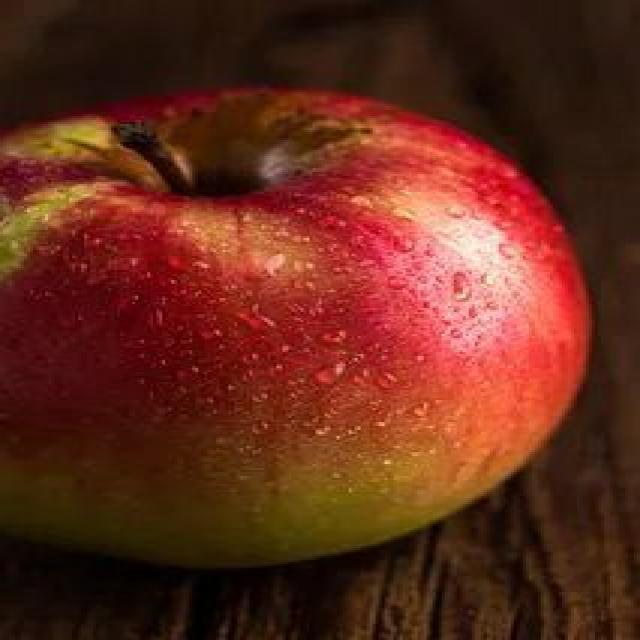Fresh Apple: (15, 85, 570, 563)
